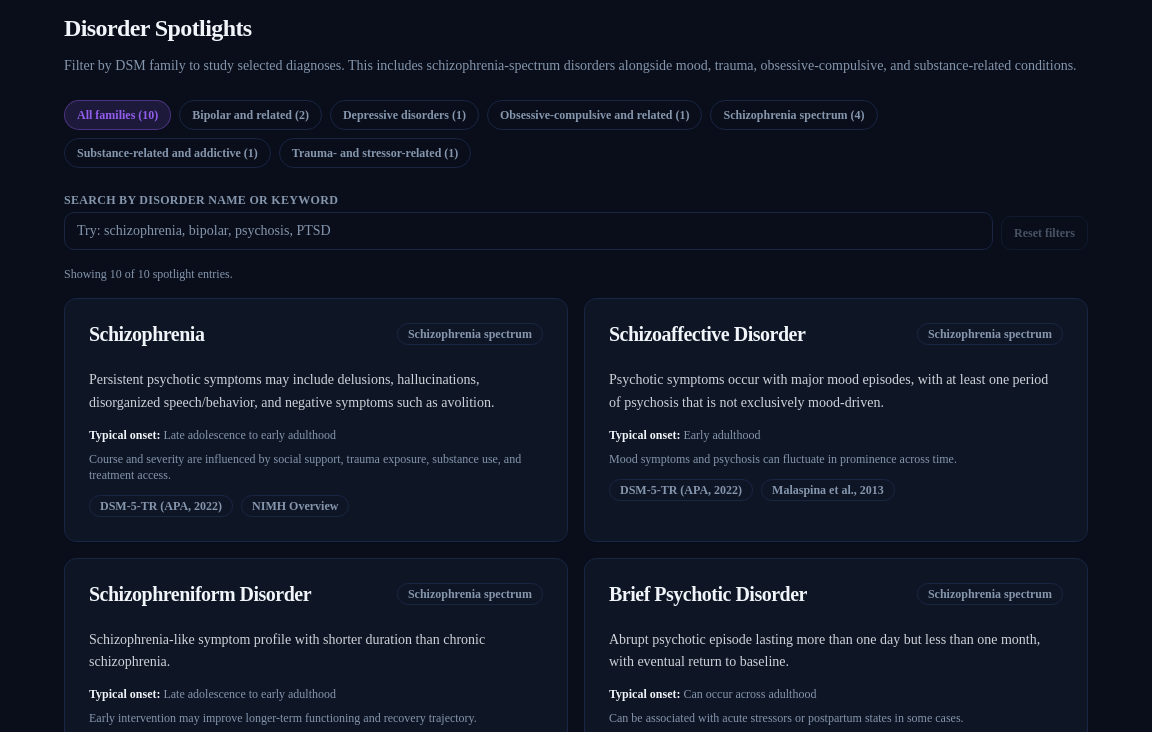
Test: DisorderExplorer URL sync › keeps selected family after click even before URL params rehydrate
Expected: the text "Showing 10 of 10 spotlight entries." is shown, [64,267,233,281]
Click the button "Bipolar and related (2)" at (251, 115), box [179,100,322,130]
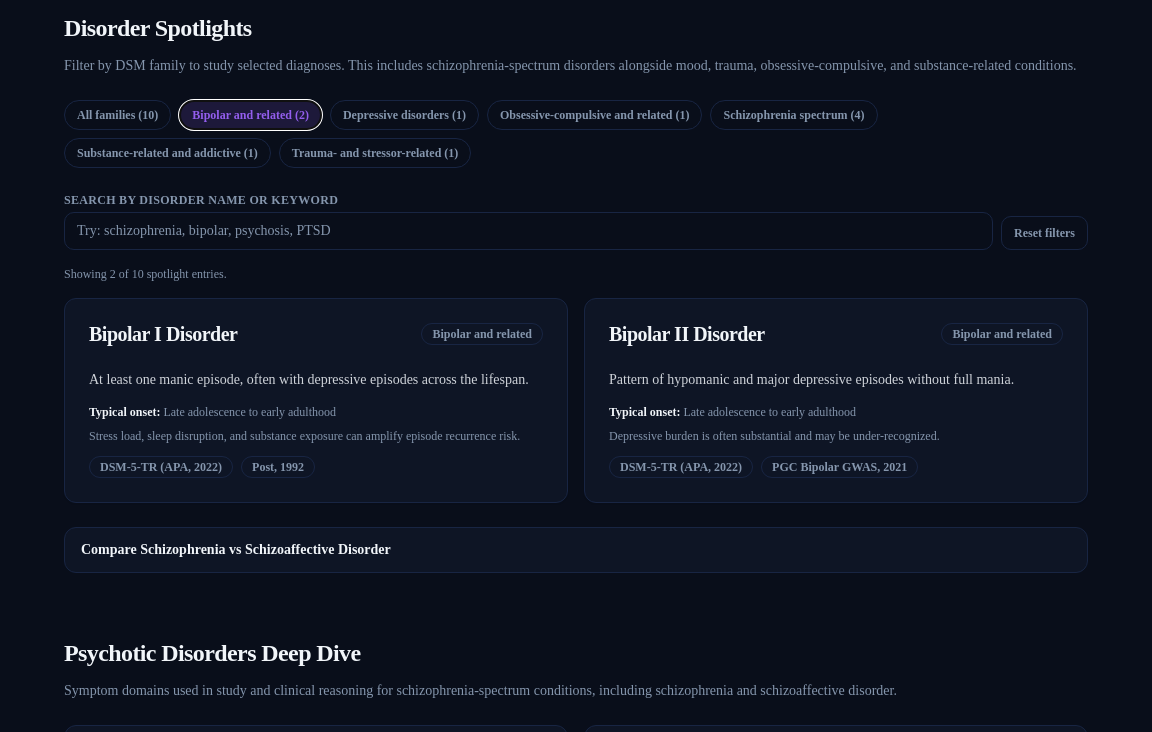
Expected: the text "Showing 2 of 10 spotlight entries." is shown, [64,267,227,281]
